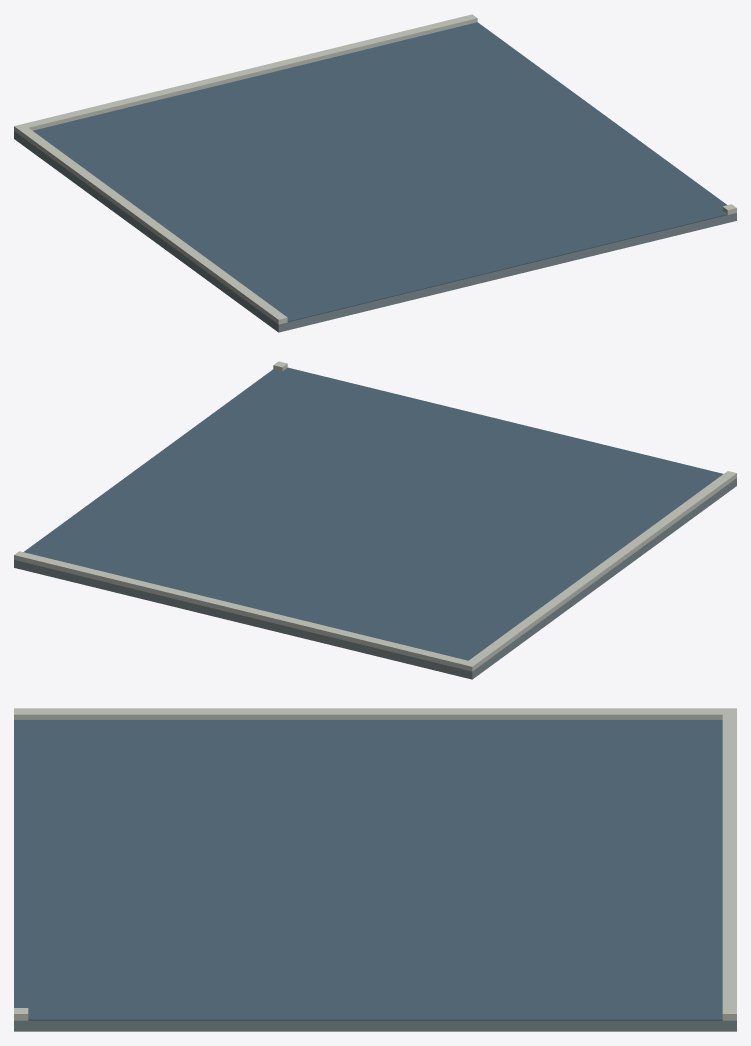
Rendered from d03_apartment_family_10_outside.glb.
3 views of the same model, one above another, from view 1: azimuth 30°, elevation 25°; view 2: azimuth 150°, elevation 25°; view 3: azimuth 270°, elevation 25° (orthographic). The views are drawn at different scales.
Parts seen in each view (by area): view 1: D03ApartmentFamily10Outside_Mesh; view 2: D03ApartmentFamily10Outside_Mesh; view 3: D03ApartmentFamily10Outside_Mesh.
Boxes of the visible parts, bbox=[...] form: D03ApartmentFamily10Outside_Mesh: bbox=[14, 14, 736, 332]; D03ApartmentFamily10Outside_Mesh: bbox=[14, 361, 736, 679]; D03ApartmentFamily10Outside_Mesh: bbox=[14, 708, 736, 1031].
Bounding box in the file's own units: 12 × 0.32 × 12.
